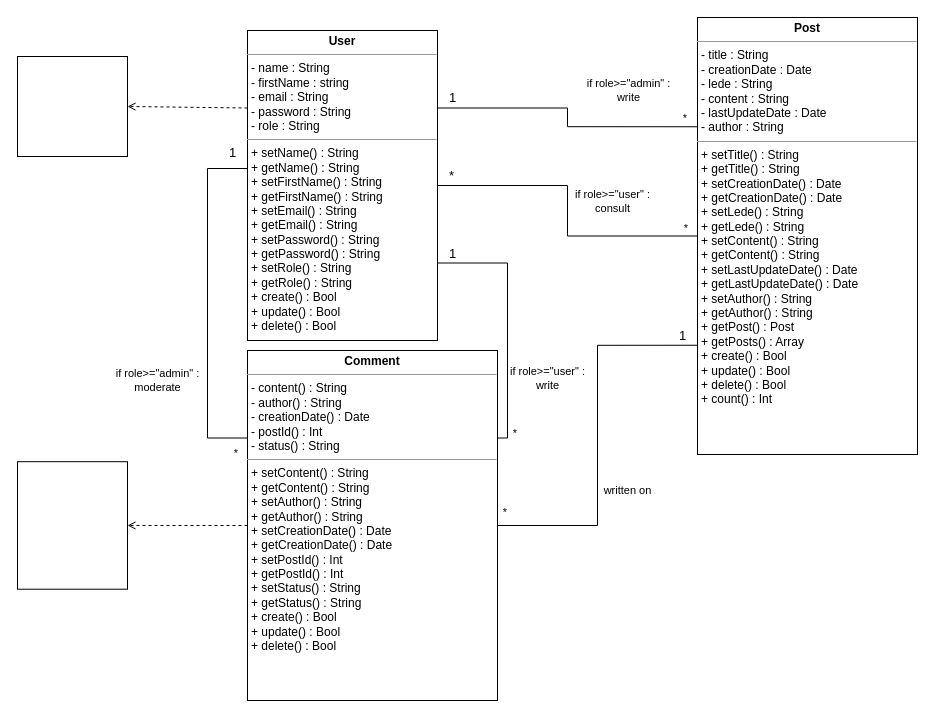
Some shapes in this 935 by 718 pixel diagram are drawn without their labels. Here are the shapes that lost their labels. From the top down, the centre of each, then its label:
At pixel 72 106: "<<enum>> Role user admin superAdmin".
At pixel 72 525: "<<enum>> Status awaiting valided rejected".
